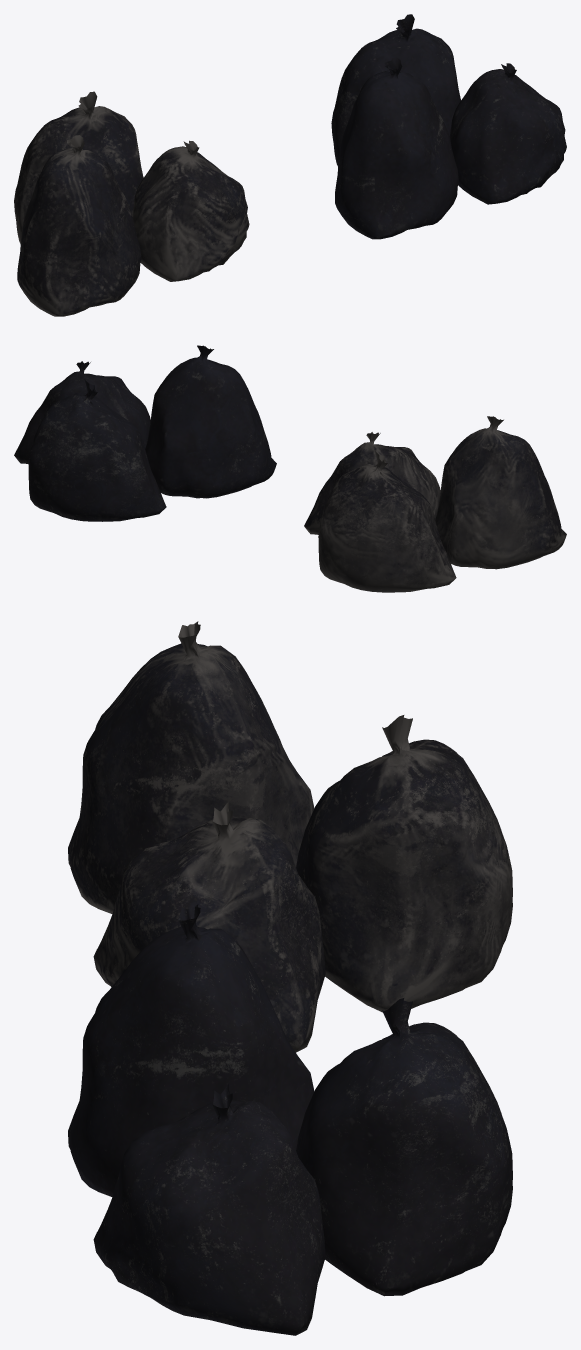
3 views of the same model, one above another, from view 1: azimuth 30°, elevation 25°; view 2: azimuth 150°, elevation 25°; view 3: azimuth 270°, elevation 25° (orthographic). The views are drawn at different scales.
Visible parts, largest first — view 1: Plastic_Bag_03_Plastic_Bag_0, Plastic_Bag_Dirt_03_Plastic_Bag_Dirt_0, Plastic_Bag_Dirt_01_Plastic_Bag_Dirt_0, Plastic_Bag_01_Plastic_Bag_0, Plastic_Bag_Dirt_02_Plastic_Bag_Dirt_0, Plastic_Bag_02_Plastic_Bag_0; view 2: Plastic_Bag_03_Plastic_Bag_0, Plastic_Bag_Dirt_03_Plastic_Bag_Dirt_0, Plastic_Bag_Dirt_02_Plastic_Bag_Dirt_0, Plastic_Bag_02_Plastic_Bag_0, Plastic_Bag_01_Plastic_Bag_0, Plastic_Bag_Dirt_01_Plastic_Bag_Dirt_0; view 3: Plastic_Bag_02_Plastic_Bag_0, Plastic_Bag_Dirt_02_Plastic_Bag_Dirt_0, Plastic_Bag_01_Plastic_Bag_0, Plastic_Bag_03_Plastic_Bag_0, Plastic_Bag_Dirt_03_Plastic_Bag_Dirt_0, Plastic_Bag_Dirt_01_Plastic_Bag_Dirt_0.
Boxes of the visible parts, left/top/right/bottom form: Plastic_Bag_03_Plastic_Bag_0: left=335, top=57, right=458, bottom=239; Plastic_Bag_Dirt_03_Plastic_Bag_Dirt_0: left=17, top=135, right=141, bottom=316; Plastic_Bag_Dirt_01_Plastic_Bag_Dirt_0: left=132, top=140, right=249, bottom=281; Plastic_Bag_01_Plastic_Bag_0: left=449, top=63, right=566, bottom=204; Plastic_Bag_Dirt_02_Plastic_Bag_Dirt_0: left=14, top=91, right=143, bottom=243; Plastic_Bag_02_Plastic_Bag_0: left=331, top=14, right=460, bottom=166; Plastic_Bag_03_Plastic_Bag_0: left=145, top=345, right=276, bottom=498; Plastic_Bag_Dirt_03_Plastic_Bag_Dirt_0: left=435, top=416, right=566, bottom=569; Plastic_Bag_Dirt_02_Plastic_Bag_Dirt_0: left=318, top=450, right=456, bottom=592; Plastic_Bag_02_Plastic_Bag_0: left=28, top=379, right=166, bottom=521; Plastic_Bag_01_Plastic_Bag_0: left=14, top=361, right=150, bottom=464; Plastic_Bag_Dirt_01_Plastic_Bag_Dirt_0: left=304, top=432, right=440, bottom=534; Plastic_Bag_02_Plastic_Bag_0: left=296, top=998, right=512, bottom=1296; Plastic_Bag_Dirt_02_Plastic_Bag_Dirt_0: left=296, top=715, right=512, bottom=1012; Plastic_Bag_01_Plastic_Bag_0: left=93, top=1084, right=325, bottom=1335; Plastic_Bag_03_Plastic_Bag_0: left=68, top=904, right=314, bottom=1197; Plastic_Bag_Dirt_03_Plastic_Bag_Dirt_0: left=68, top=621, right=314, bottom=914; Plastic_Bag_Dirt_01_Plastic_Bag_Dirt_0: left=93, top=801, right=325, bottom=1052.
Bounding box in the file's own units: 1.75 × 0.4584 × 0.665.
2 materials, 2 textured.
